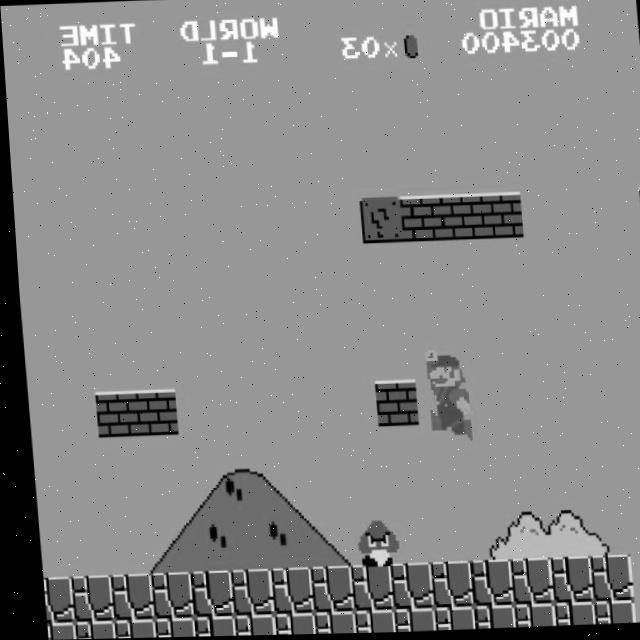0- big_mario: (419, 347, 469, 443)
1- brick_block: (368, 380, 413, 428), (129, 389, 173, 437), (89, 390, 133, 438), (436, 195, 480, 242), (476, 194, 520, 240), (396, 197, 440, 243), (636, 189, 640, 235)
13- mystery_block: (356, 198, 400, 244)
17- undestructible_block: (581, 556, 626, 604), (541, 558, 586, 606), (501, 559, 546, 607), (461, 560, 506, 608), (421, 562, 466, 610), (381, 563, 426, 611), (341, 565, 386, 613), (301, 566, 346, 614), (261, 567, 306, 615), (222, 569, 266, 617), (182, 570, 226, 618), (142, 572, 186, 620), (102, 573, 146, 621), (62, 574, 106, 622), (35, 576, 66, 623), (344, 610, 387, 635), (545, 603, 587, 628), (425, 607, 467, 632), (264, 612, 307, 636), (585, 602, 627, 626), (505, 605, 547, 629), (465, 606, 507, 630), (385, 609, 427, 633), (304, 612, 347, 635), (224, 614, 267, 637), (184, 616, 227, 637), (144, 617, 187, 638), (104, 618, 147, 639), (65, 620, 107, 639), (38, 621, 67, 640)
8- goomba: (348, 518, 395, 569)
